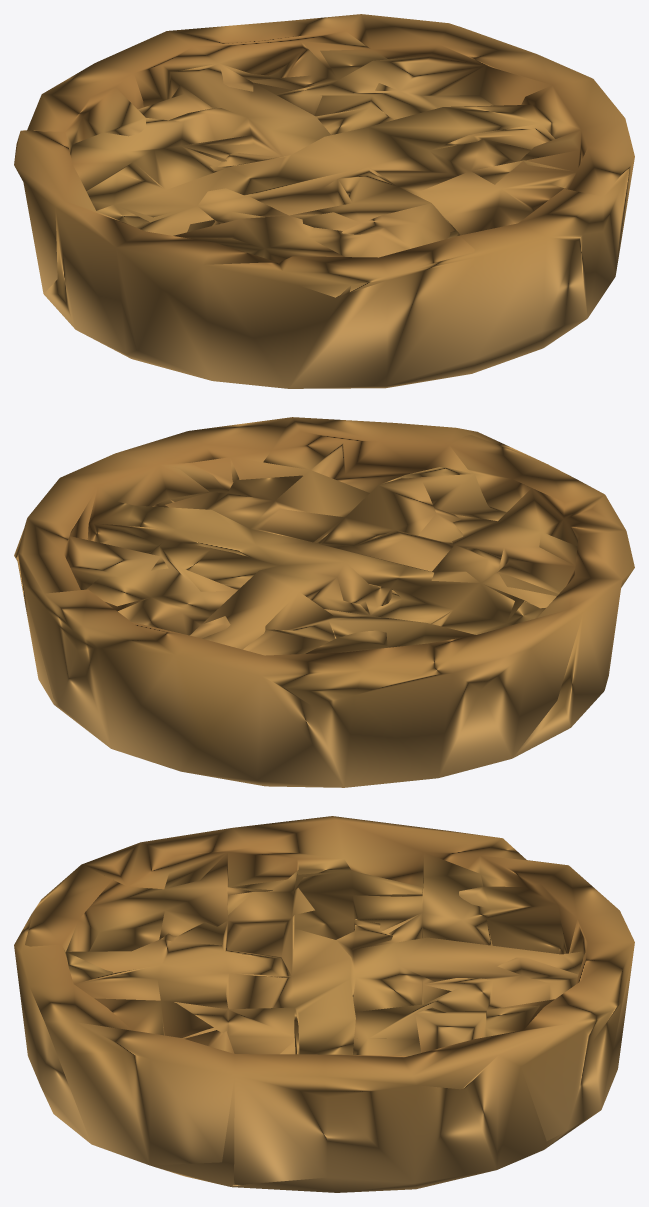
Rendered from gen3d-pie-lod1.glb.
The picture shows the model from 3 angles, top to bottom: view 1: azimuth 30°, elevation 25°; view 2: azimuth 150°, elevation 25°; view 3: azimuth 270°, elevation 25°; orthographic projection.
Parts seen in each view (by area): view 1: part_0; view 2: part_0; view 3: part_0.
Part boxes in pixels (<box>): part_0: <box>14,14,634,388</box>; part_0: <box>14,417,634,787</box>; part_0: <box>14,816,634,1192</box>.
Size of the model in its own units: 4.25 by 0.9872 by 4.26.
